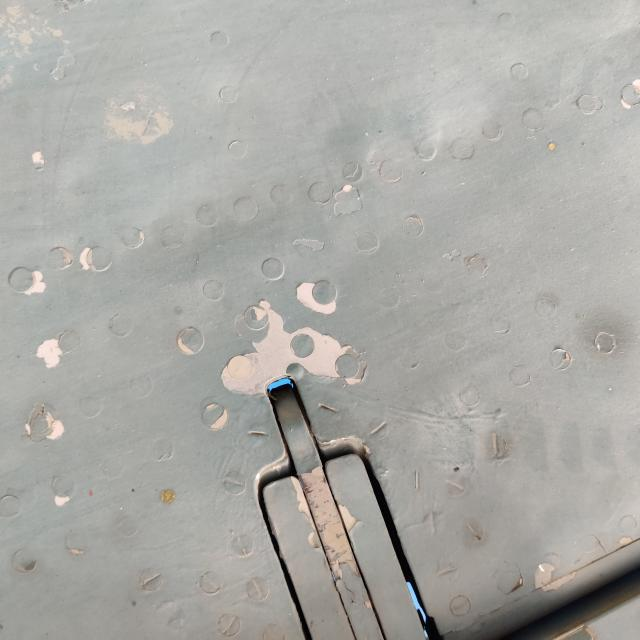paint-off: (277, 231, 428, 374)
